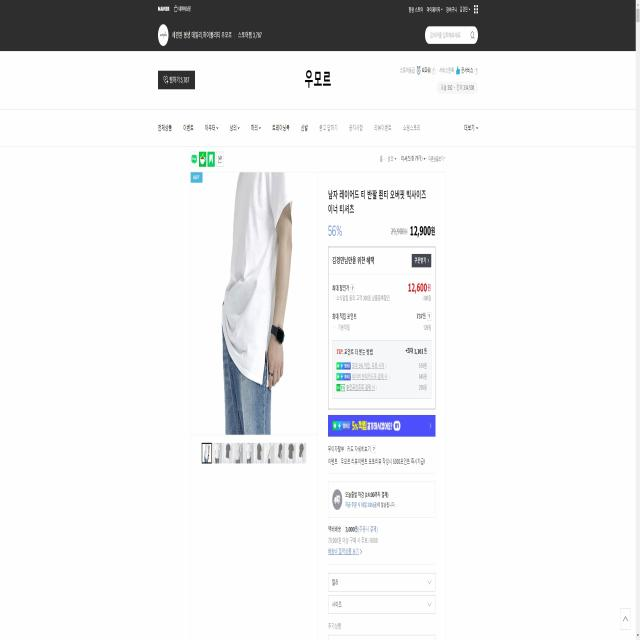menu-bar: (405, 2, 480, 18)
search: (423, 26, 479, 46)
side-panel: (320, 180, 441, 640)
tab-bar: (155, 114, 431, 140), (157, 2, 193, 15)
